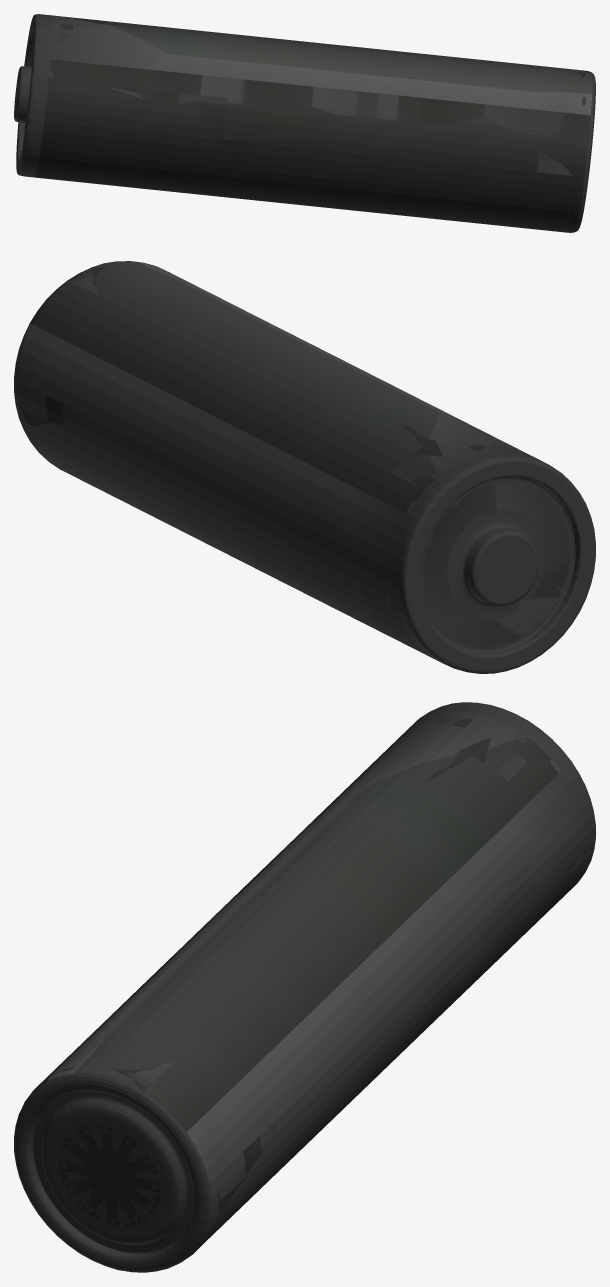
Rendered from AAbattery.glb.
The picture shows the model from 3 angles, top to bottom: view 1: azimuth 30°, elevation 25°; view 2: azimuth 150°, elevation 25°; view 3: azimuth 270°, elevation 25°; orthographic projection. The views are drawn at different scales.
Parts seen in each view (by area): view 1: world; view 2: world; view 3: world.
Boxes of the visible parts, <box> form: world: <box>14,14,595,232</box>; world: <box>14,261,595,673</box>; world: <box>14,702,595,1272</box>.
Size of the model in its own units: 0.0493 by 0.0198 by 0.0361.
Materials: 1 (1 with a texture image).
